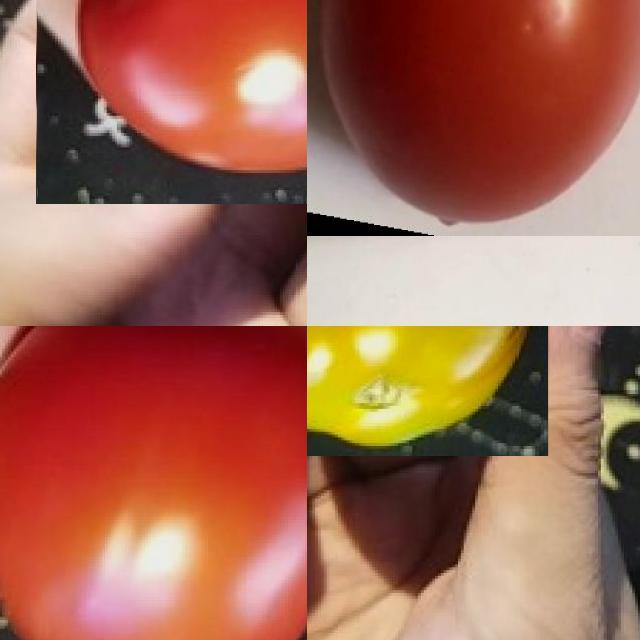Fresh Tomato: (0, 326, 307, 640), (307, 0, 640, 236), (36, 0, 307, 204)
Rotten Tomato: (307, 326, 549, 456)
